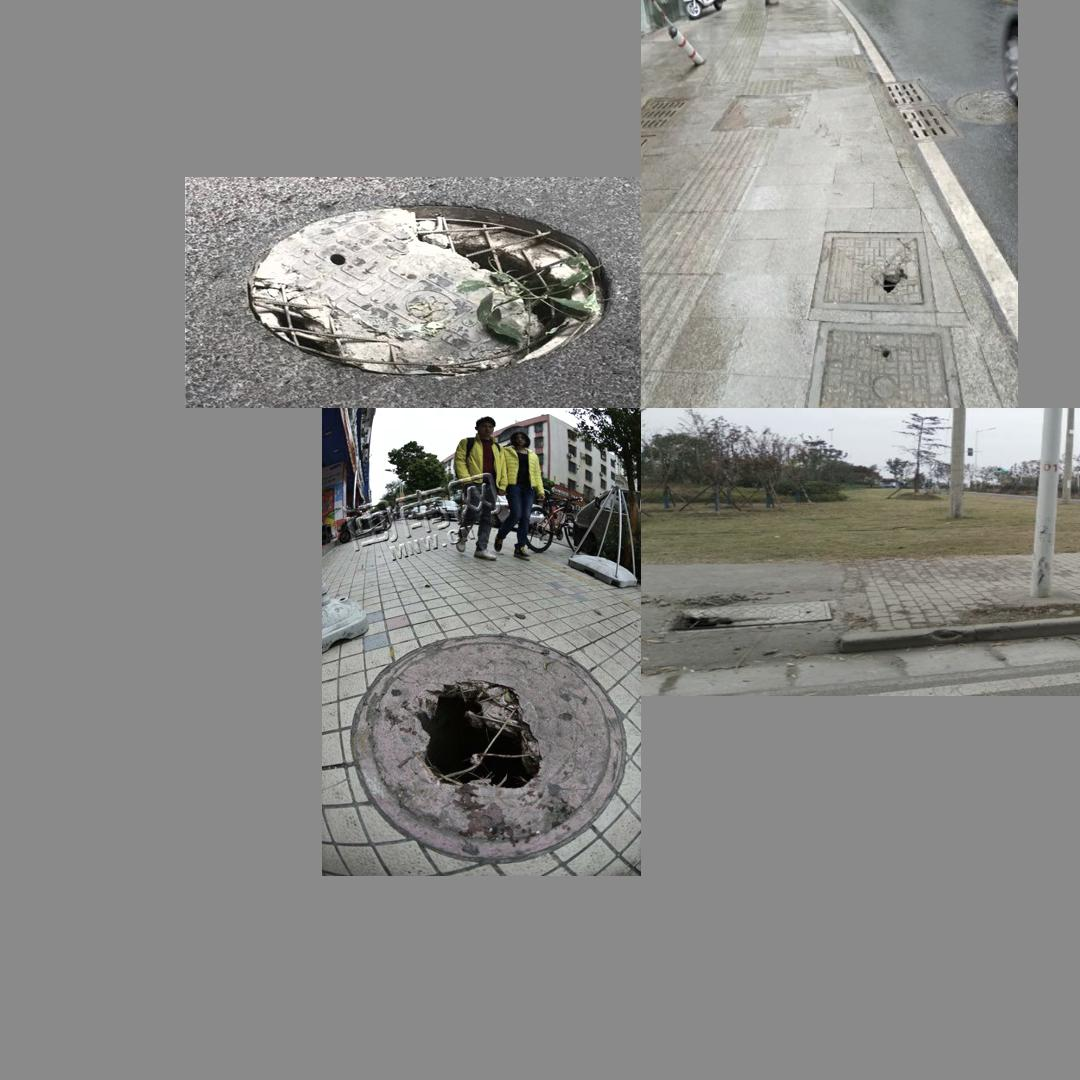broke: (242, 201, 616, 378), (339, 632, 634, 854), (803, 320, 967, 408), (807, 230, 938, 310), (661, 603, 836, 626)
